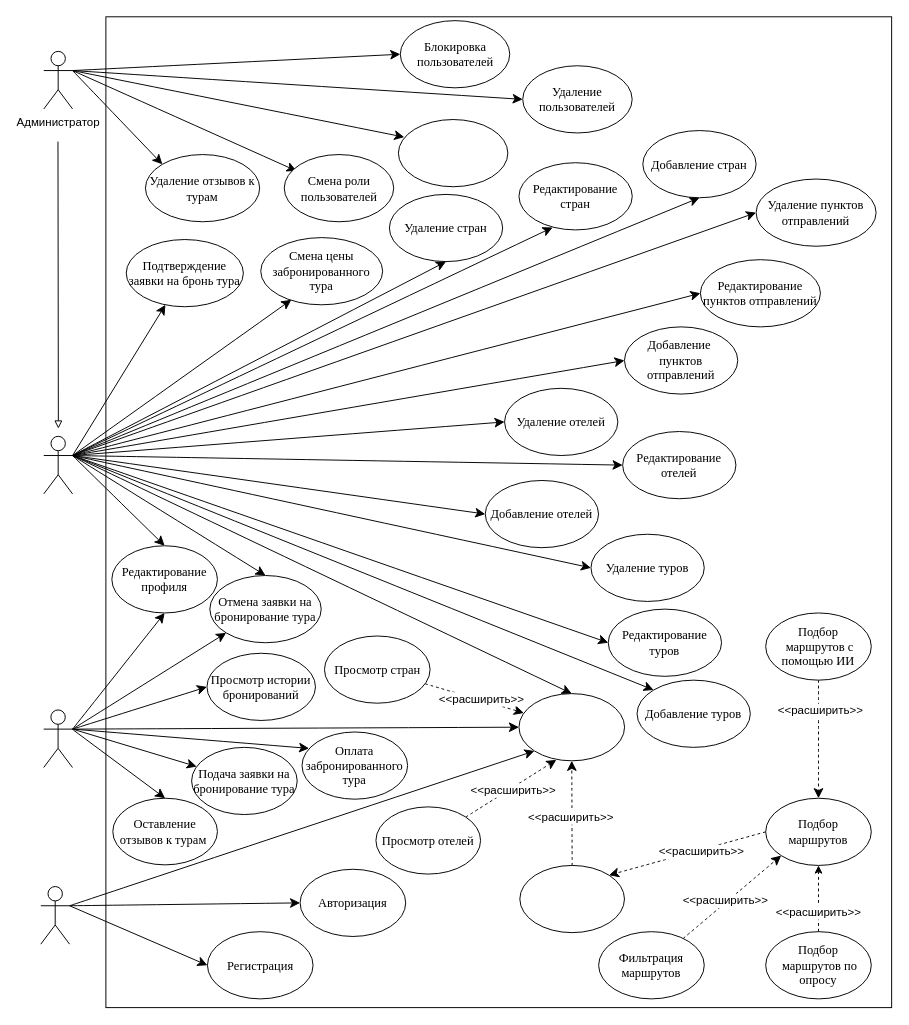
Some shapes in this 909 by 1025 pixel diagram are drawn without their labels. The centre of each missing label's shape, as x and y in pixels:
"Гость" belongs at [55,915].
"Менеджер" belongs at [58,464].
"Пользователь" belongs at [57,738].
"Просмотр информации о турах" belongs at [571,727].
"Просмотр маршрутов" belongs at [571,898].
"Разблокировка пользователей" belongs at [452,153].
